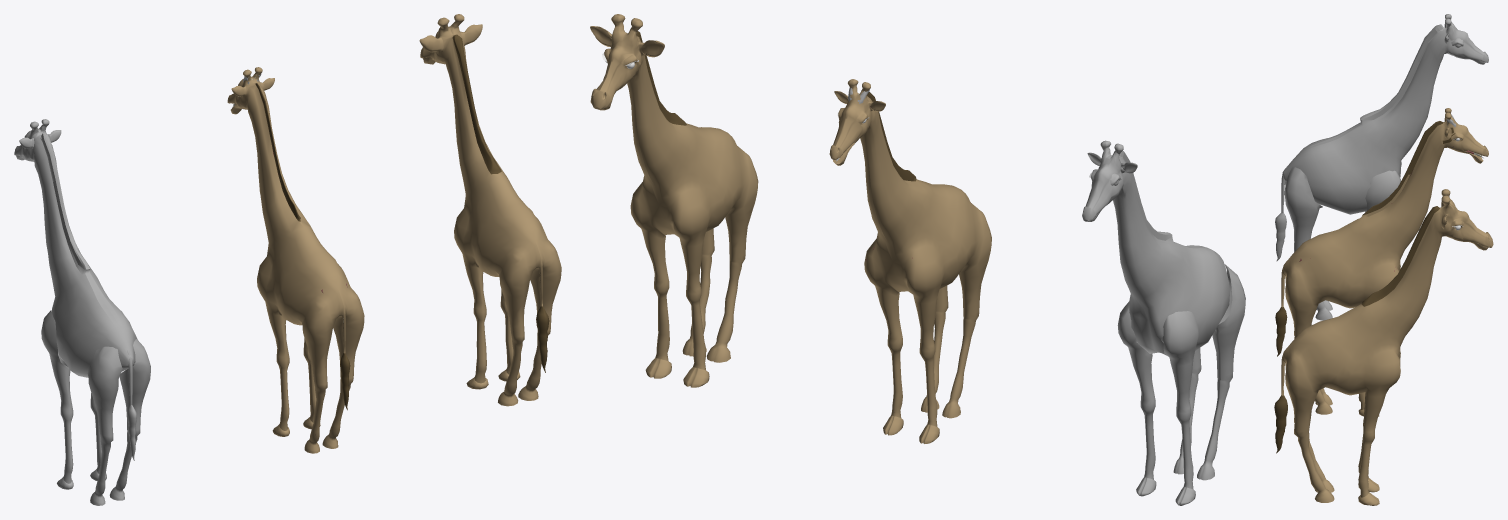
Rendered from GiraffeTest.fbx.
3 views of the same model, side by side, from view 1: azimuth 30°, elevation 25°; view 2: azimuth 150°, elevation 25°; view 3: azimuth 270°, elevation 25° (orthographic). The views are drawn at different scales.
Parts seen in each view (by area): view 1: Giraffe2 (×2), Body1, BackLeg2, BackLeg3, R_FrontLeg1; view 2: Giraffe2 (×2), Body1, R_FrontLeg1, BackLeg2, L_FrontLeg, BackLeg3; view 3: Giraffe2 (×2), Body1, BackLeg3, L_FrontLeg, TailHair.
Boxes of the visible parts, x1,y1,x2,y2 form: Giraffe2 (×2): (227,14,561,453); Body1: (14,119,137,377); BackLeg2: (87,346,122,505); BackLeg3: (109,339,150,500); R_FrontLeg1: (41,310,73,483); Giraffe2 (×2): (590,14,991,443); Body1: (1082,140,1229,355); R_FrontLeg1: (1161,311,1199,489); BackLeg2: (1197,264,1245,480); L_FrontLeg: (1117,301,1155,479); BackLeg3: (1173,348,1201,474); Giraffe2 (×2): (1274,108,1493,505); Body1: (1283,14,1488,214); BackLeg3: (1284,167,1332,320); L_FrontLeg: (1365,170,1400,211); TailHair: (1275,212,1286,261).
Bounding box in the file's own units: 34.86 × 23.65 × 15.49.
